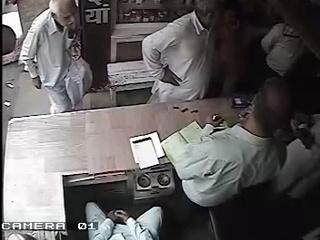Normal: (165, 76, 317, 240), (142, 0, 228, 104), (18, 0, 94, 114), (85, 202, 163, 239)
